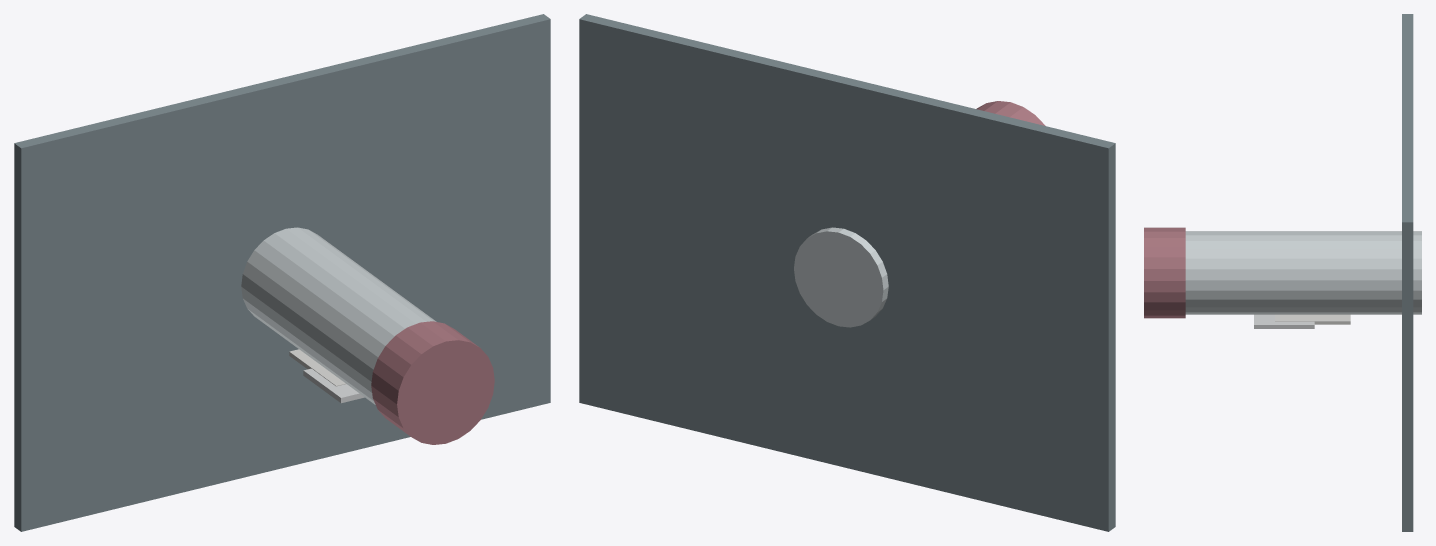
Rendered from collection-tube-high.glb.
3 views of the same model, side by side, from view 1: azimuth 30°, elevation 25°; view 2: azimuth 150°, elevation 25°; view 3: azimuth 270°, elevation 25° (orthographic). The views are drawn at different scales.
Parts seen in each view (by area): view 1: presentation_base_detail, collection_tube, tube_cap, label_band_detail; view 2: presentation_base_detail, collection_tube, tube_cap; view 3: collection_tube, presentation_base_detail, tube_cap, tube_label, label_band_detail.
Part boxes in pixels (x1,y1,x2,y2): presentation_base_detail: (14, 14, 550, 531); collection_tube: (241, 227, 436, 404); tube_cap: (371, 321, 494, 444); label_band_detail: (303, 368, 364, 403); presentation_base_detail: (579, 14, 1115, 531); collection_tube: (794, 227, 888, 327); tube_cap: (976, 101, 1045, 125); collection_tube: (1185, 231, 1421, 314); presentation_base_detail: (1402, 14, 1413, 531); tube_cap: (1144, 227, 1185, 318); tube_label: (1275, 314, 1350, 324); label_band_detail: (1254, 314, 1314, 328).
Bounding box in the file's own units: 2.6 × 1.8 × 1.46.
